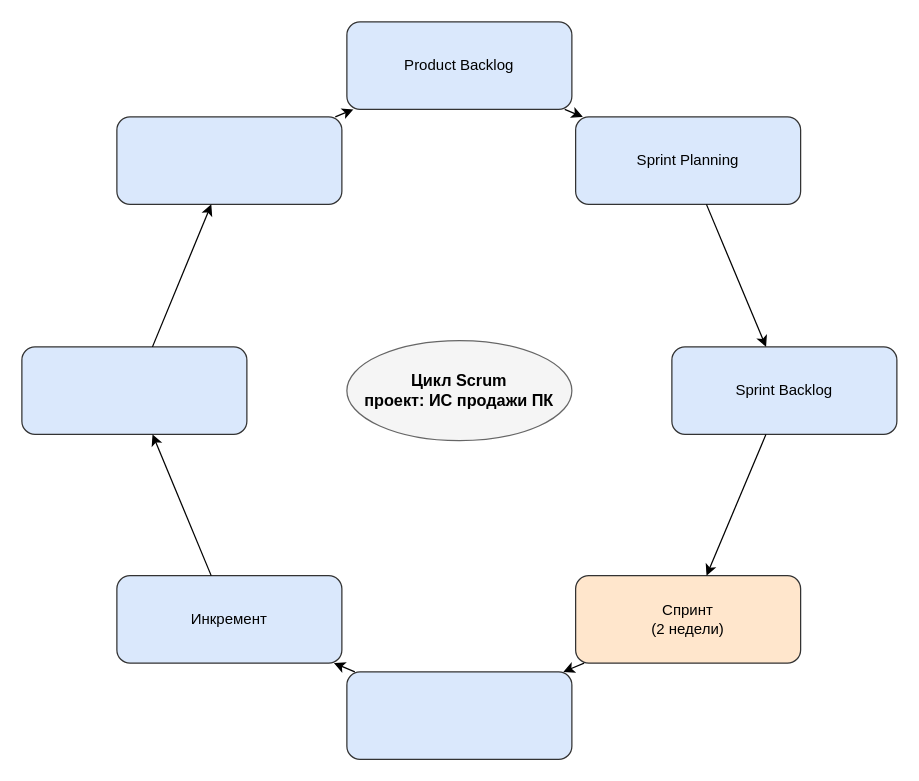
The diagram is 919 pixels wide and 781 high, and some of its shapes have lost their labels. Here are the shapes that lost their labels. From the top down, the centre of each, then its label:
[229,160]: Sprint Retrospective
[134,390]: Sprint Review
[459,715]: Daily Scrum
